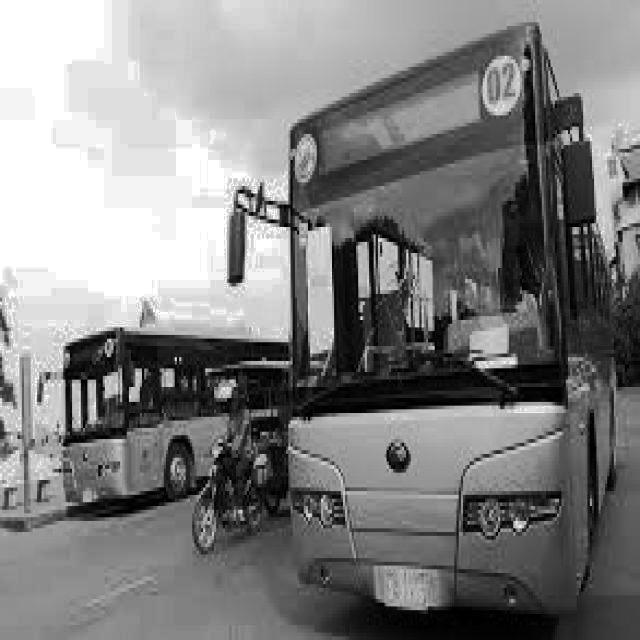Bus: (269, 10, 638, 640), (50, 317, 287, 547)
